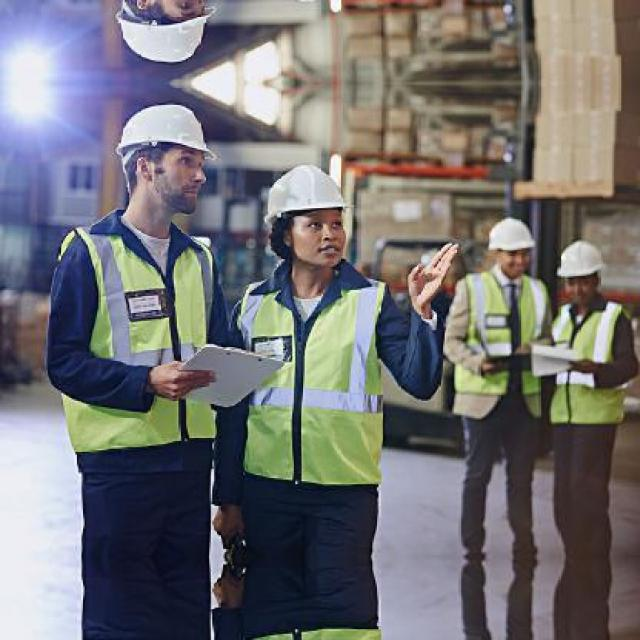Reflective-Jacket: (46, 219, 219, 458), (232, 271, 400, 492), (443, 266, 554, 426), (546, 299, 637, 432)
Safety-Helmet: (110, 99, 218, 170), (257, 157, 355, 225), (551, 233, 612, 288), (482, 213, 540, 257)
